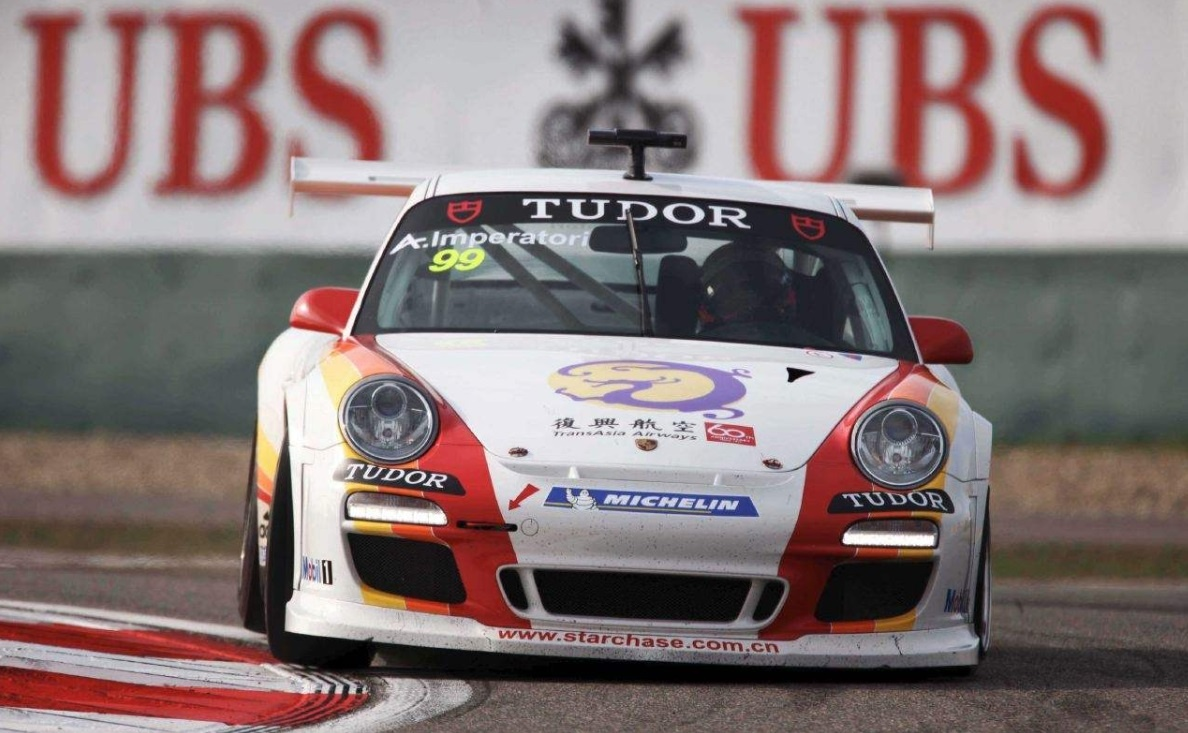racing car: (244, 109, 1003, 683)
